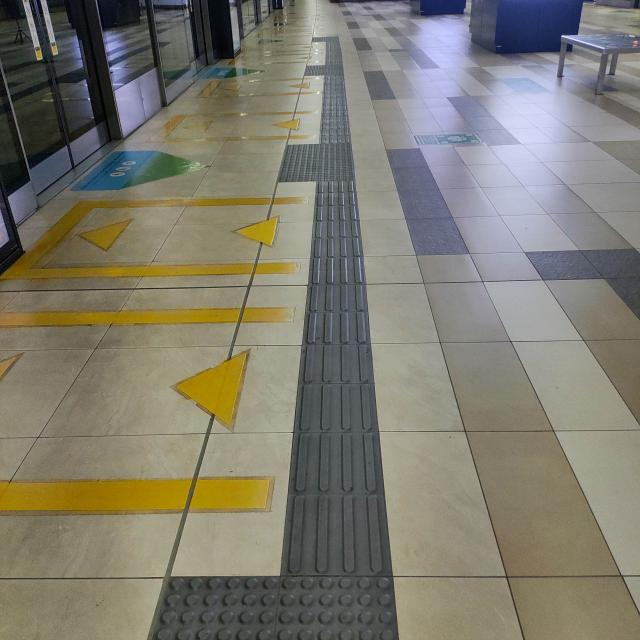lurus: (300, 44, 385, 640)
